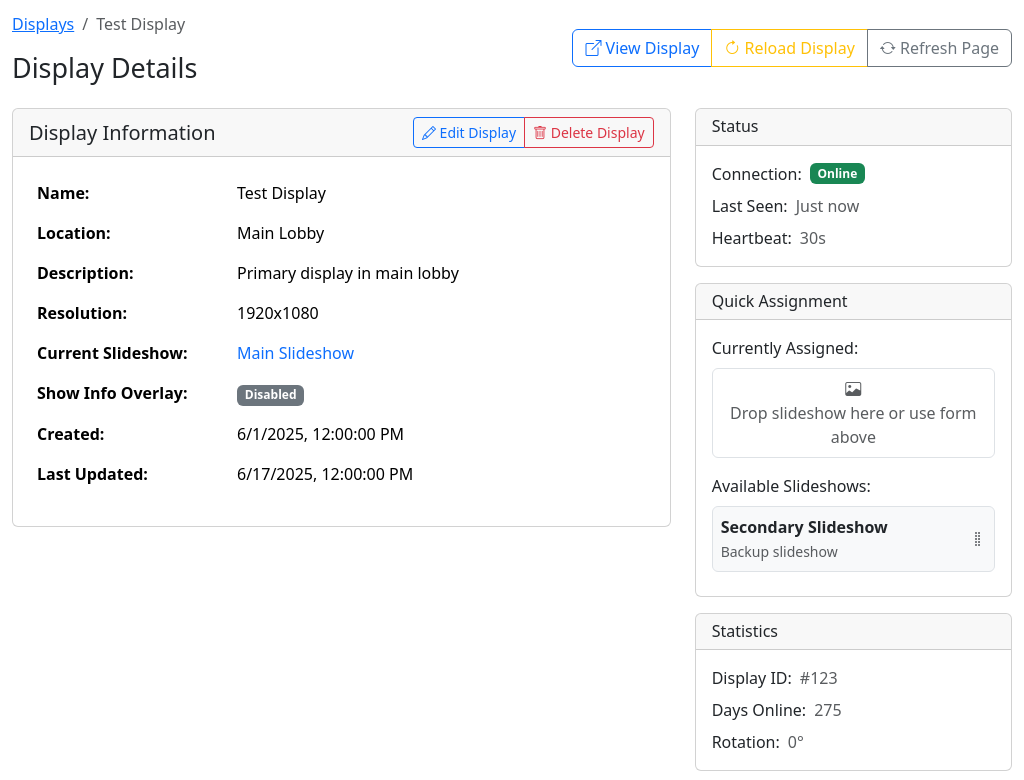
Test case: DisplayDetail › cancels edit mode correctly
Enter edit mode
Click the button "Edit Display".
click(469, 133)  # box [413,117,525,148]
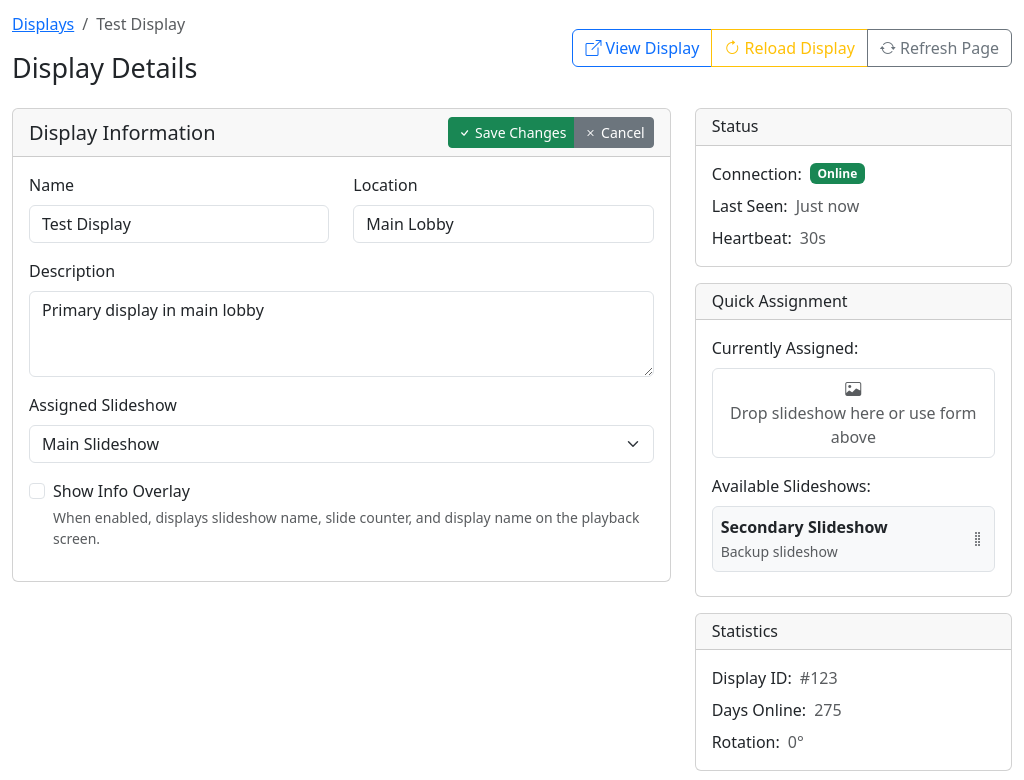
Change name
Replace the text in the field showing "Test Display" with "Changed Name" at (179, 224), box [29,205,329,243]
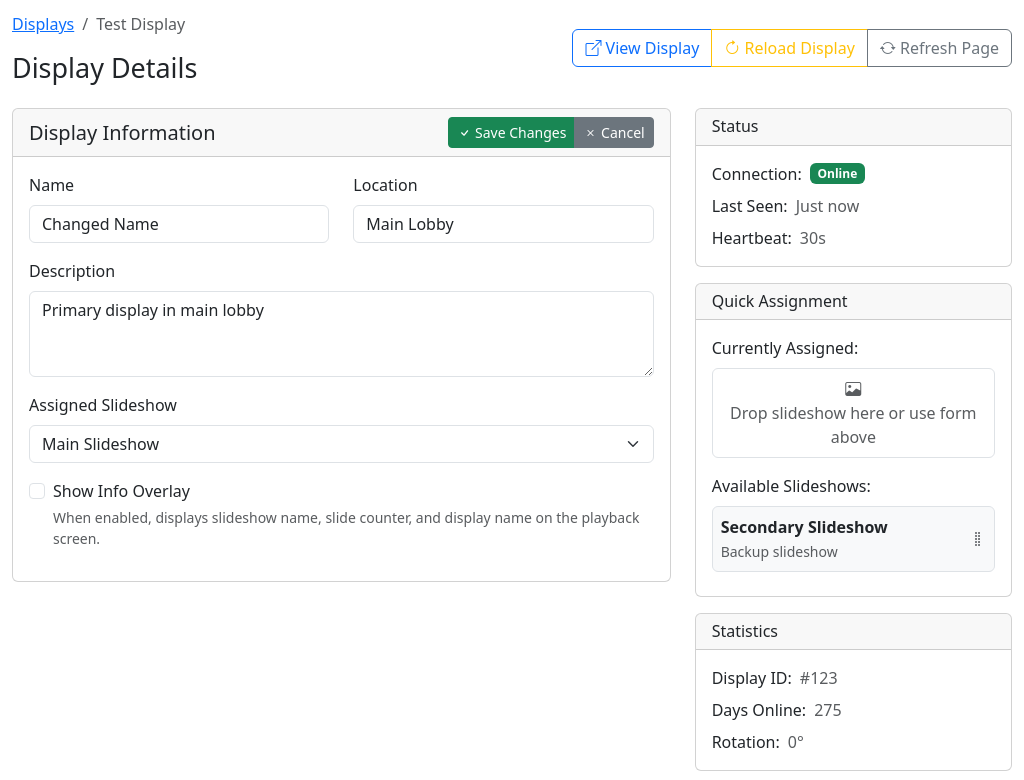
Click the button "Cancel".
click(614, 133)  # box [574,117,654,148]
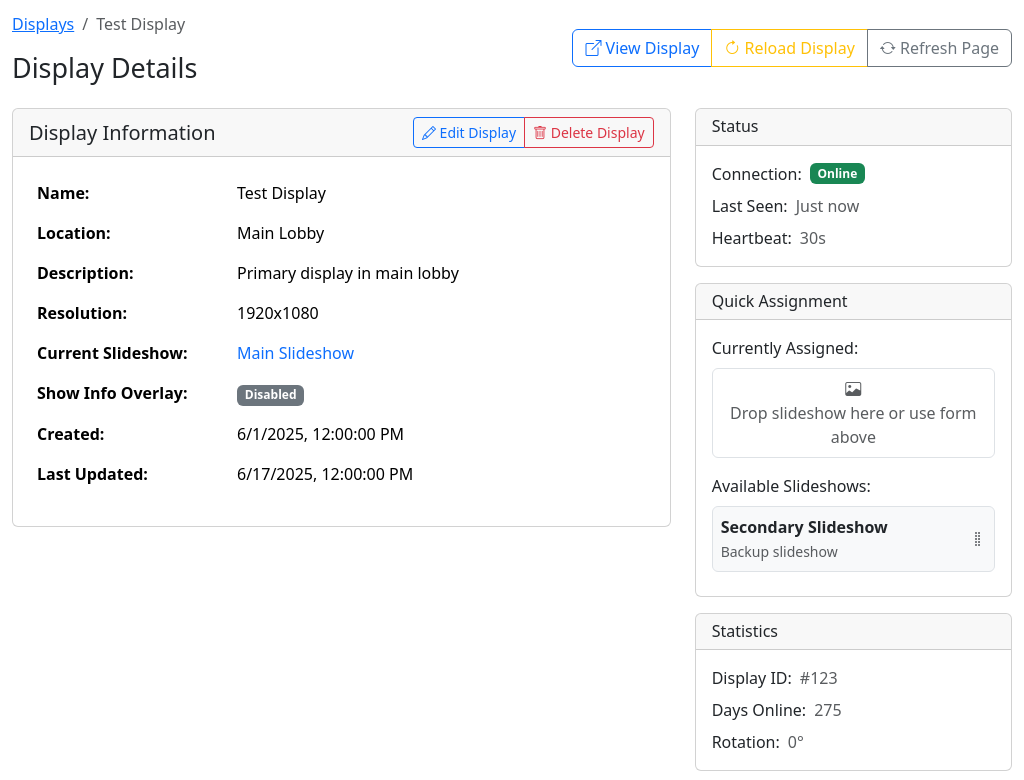
Check: the button "Edit Display" is shown, box [413,117,525,148]
Check: the button "Save Changes" is gone
